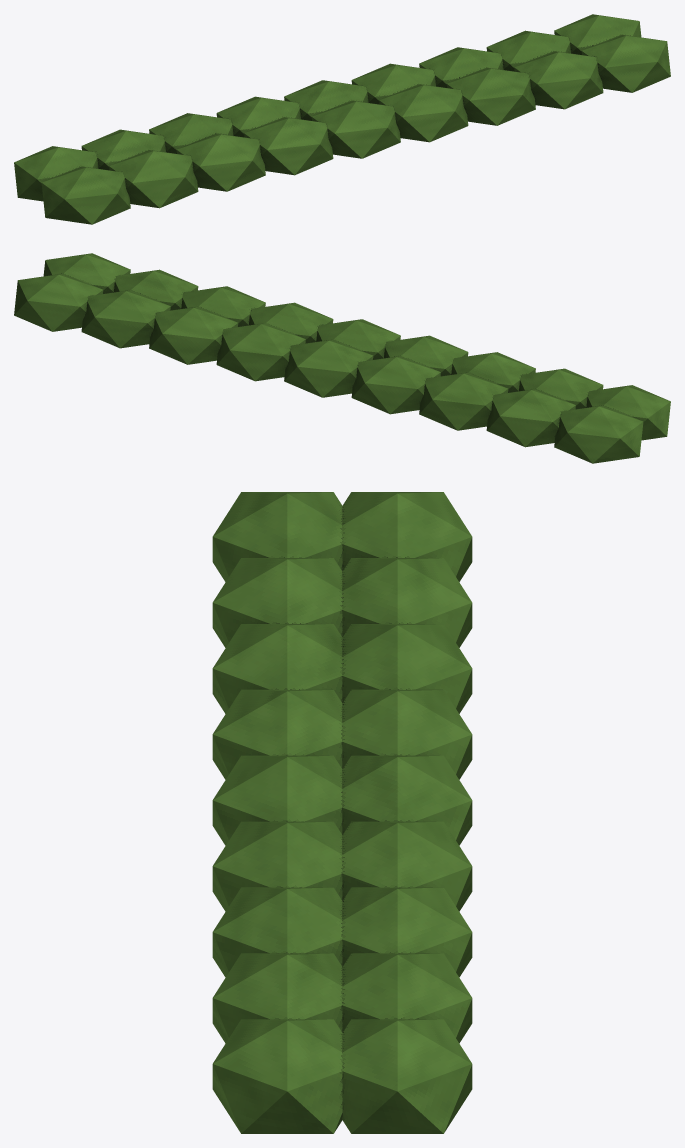
The model's file is base_crop_tuber.glb.
The picture shows the model from 3 angles, top to bottom: view 1: azimuth 30°, elevation 25°; view 2: azimuth 150°, elevation 25°; view 3: azimuth 270°, elevation 25°; orthographic projection. The views are drawn at different scales.
Visible parts, largest first — view 1: base_crop_tuber; view 2: base_crop_tuber; view 3: base_crop_tuber.
Boxes of the visible parts, x1,y1,x2,y2 form: base_crop_tuber: (14,14,670,224); base_crop_tuber: (14,253,670,463); base_crop_tuber: (212,492,472,1133).
Bounding box in the file's own units: 5.22 × 0.448 × 0.9444.
1 material, 1 textured.
